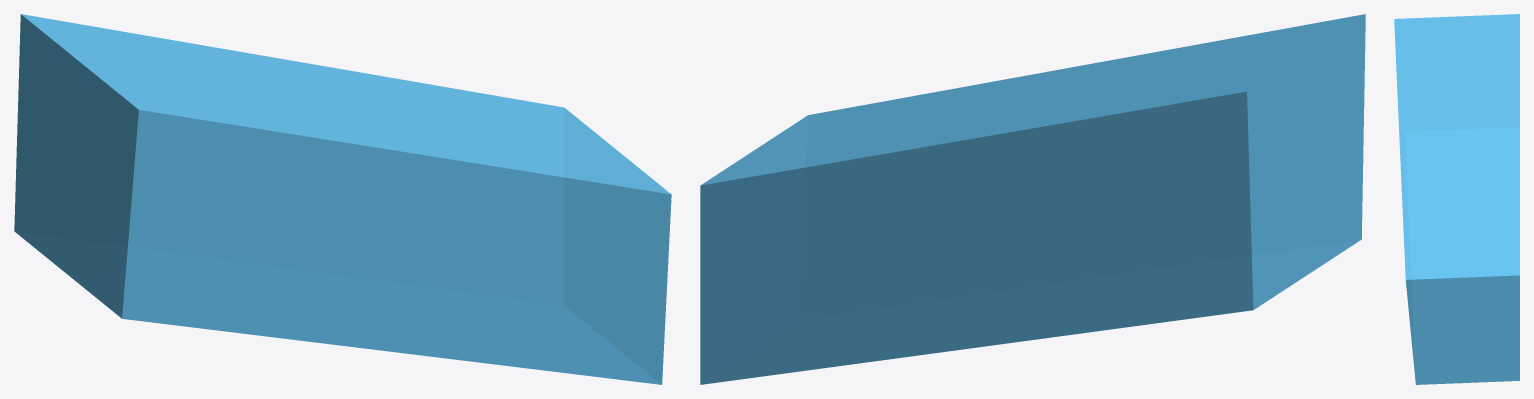
Rendered from Event_421556567_HErechit_9.fbx.
3 renders of one model, left to right at view 1: azimuth 30°, elevation 25°; view 2: azimuth 150°, elevation 25°; view 3: azimuth 270°, elevation 25°, orthographic. The views are drawn at different scales.
Parts seen in each view (by area): view 1: Model; view 2: Model; view 3: Model.
Boxes of the visible parts, <box> form: Model: <box>14,14,671,384</box>; Model: <box>700,14,1365,384</box>; Model: <box>1394,14,1519,384</box>.
Bounding box in the file's own units: 1.04 × 0.7833 × 0.3881.
